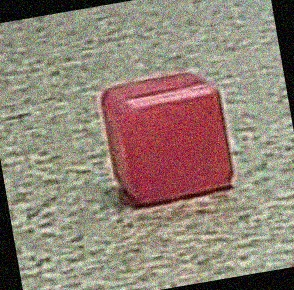red_cube: (95, 64, 253, 208)
